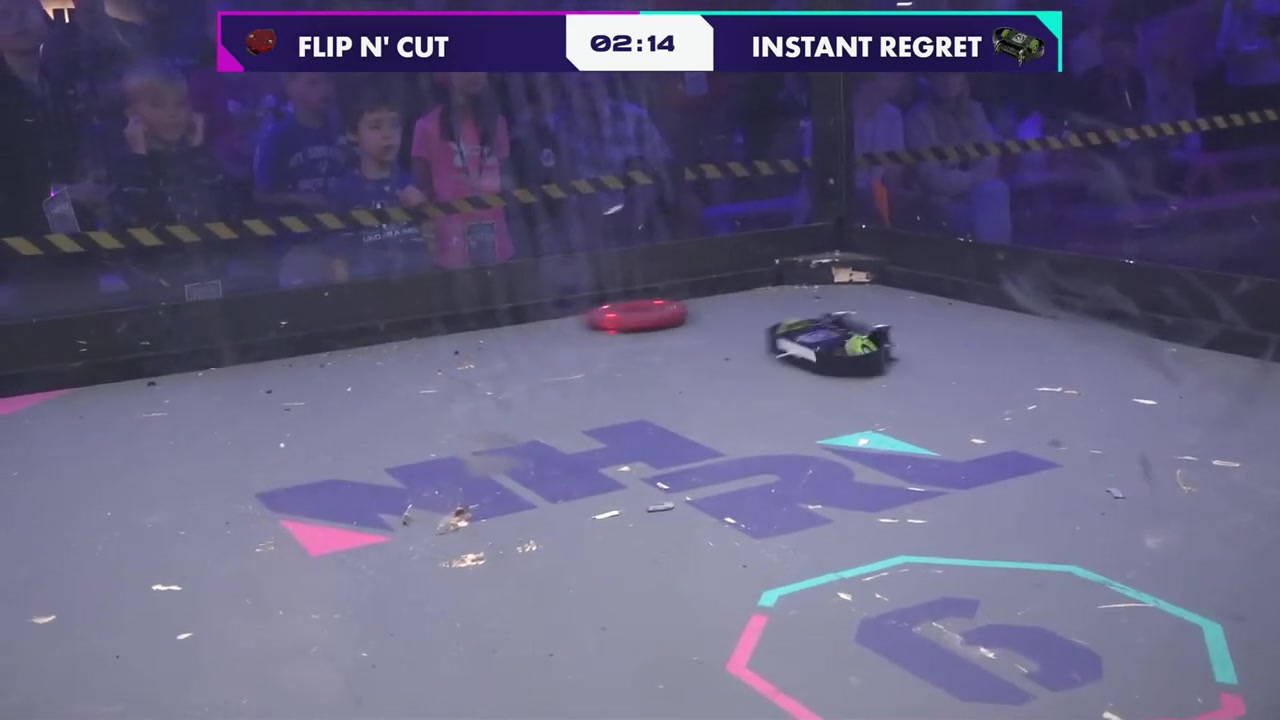combatbot: (766, 312, 902, 379), (581, 297, 690, 336)
